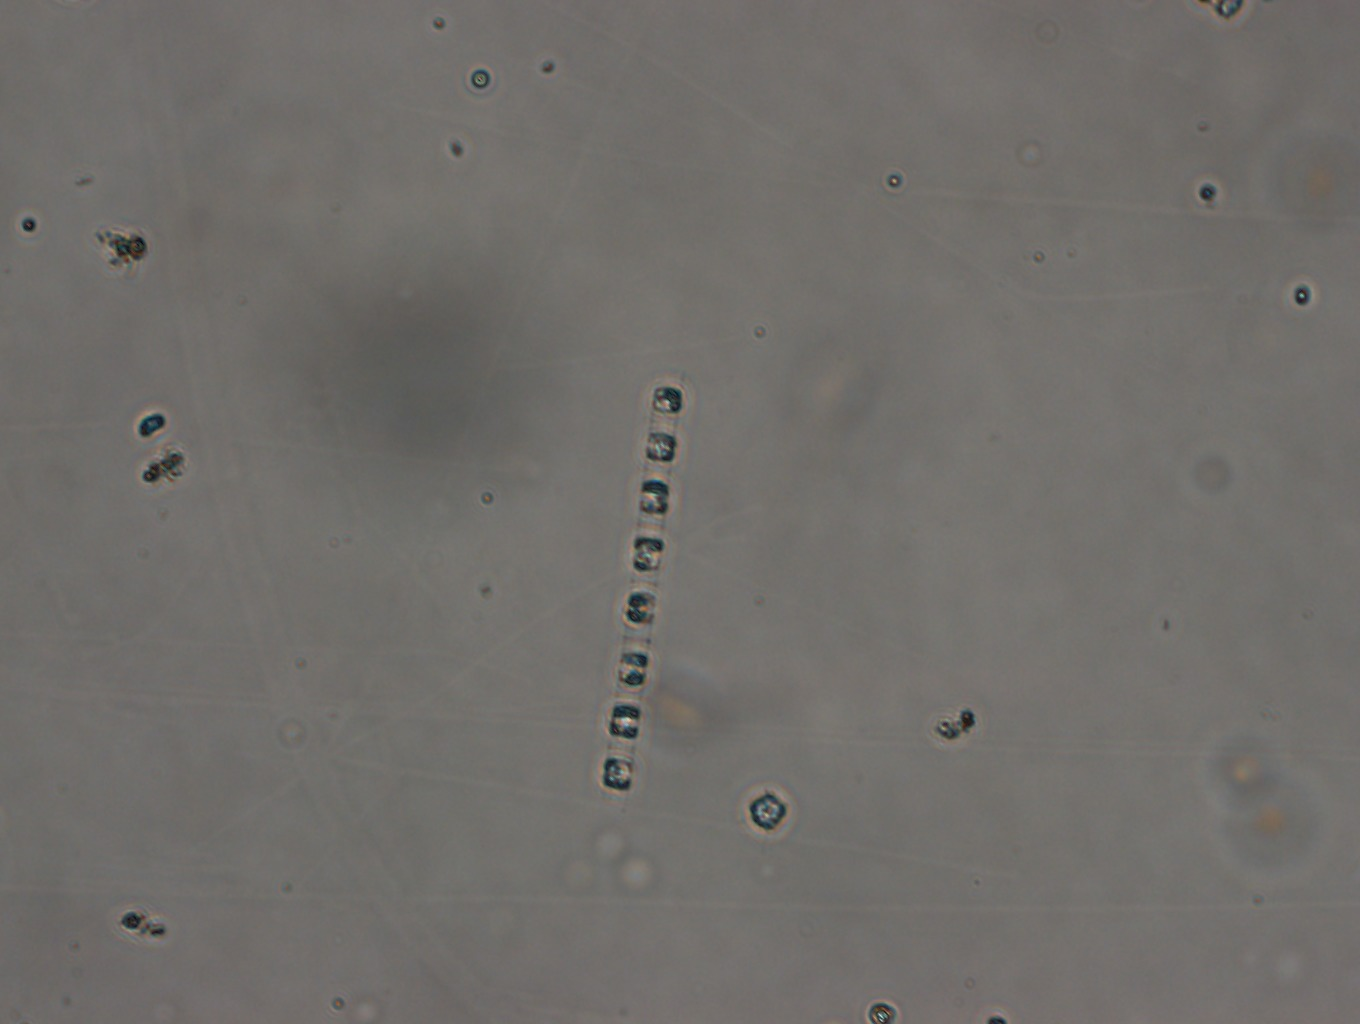skeletonema: (592, 367, 688, 801)
